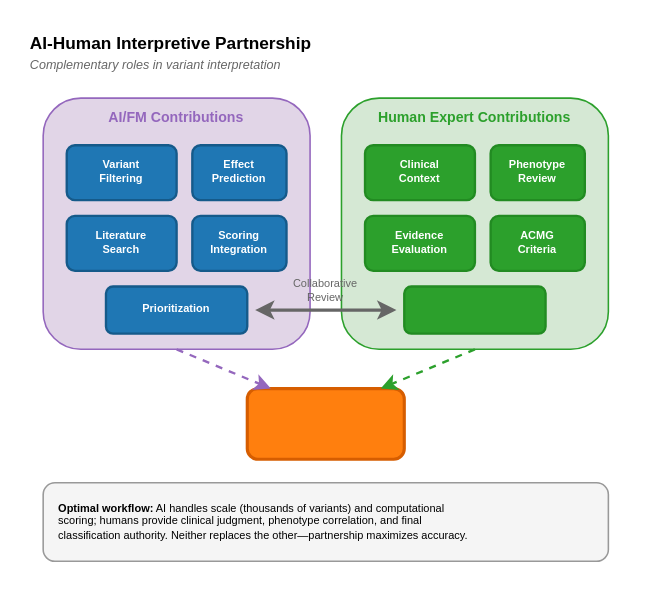
Image size: 650x589. Some labels were removed from this diagram. Here are the shapes that lost their labels. From the top down, the centre of each, then its label:
At [474,309]: "Final Classification".
At [325,423]: "Validated Diagnosis with Confidence".
